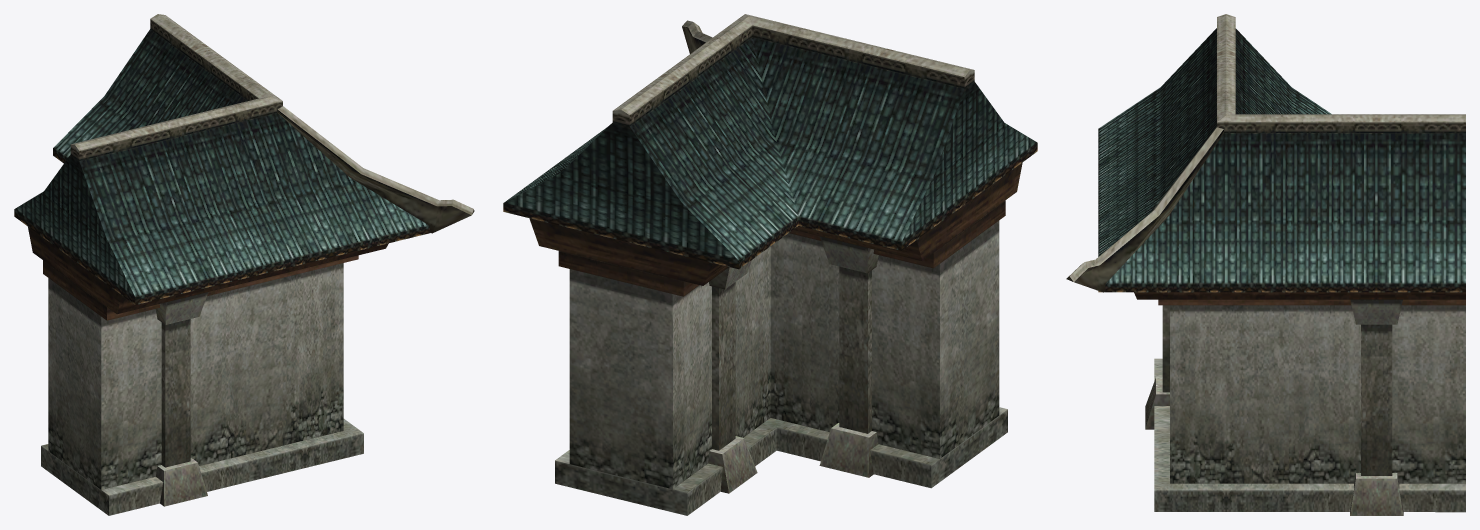
Rendered from gls_a_wall-corner.fbx.
The picture shows the model from 3 angles, left to right: view 1: azimuth 30°, elevation 25°; view 2: azimuth 150°, elevation 25°; view 3: azimuth 270°, elevation 25°; orthographic projection. The views are drawn at different scales.
Parts seen in each view (by area): view 1: gls_A_wall-corner; view 2: gls_A_wall-corner; view 3: gls_A_wall-corner.
Part boxes in pixels (box(x1,y1,x2,y2)): gls_A_wall-corner: box(14, 14, 474, 515); gls_A_wall-corner: box(503, 14, 1037, 515); gls_A_wall-corner: box(1066, 14, 1465, 515).
Size of the model in its own units: 6.68 by 6.75 by 6.67.
